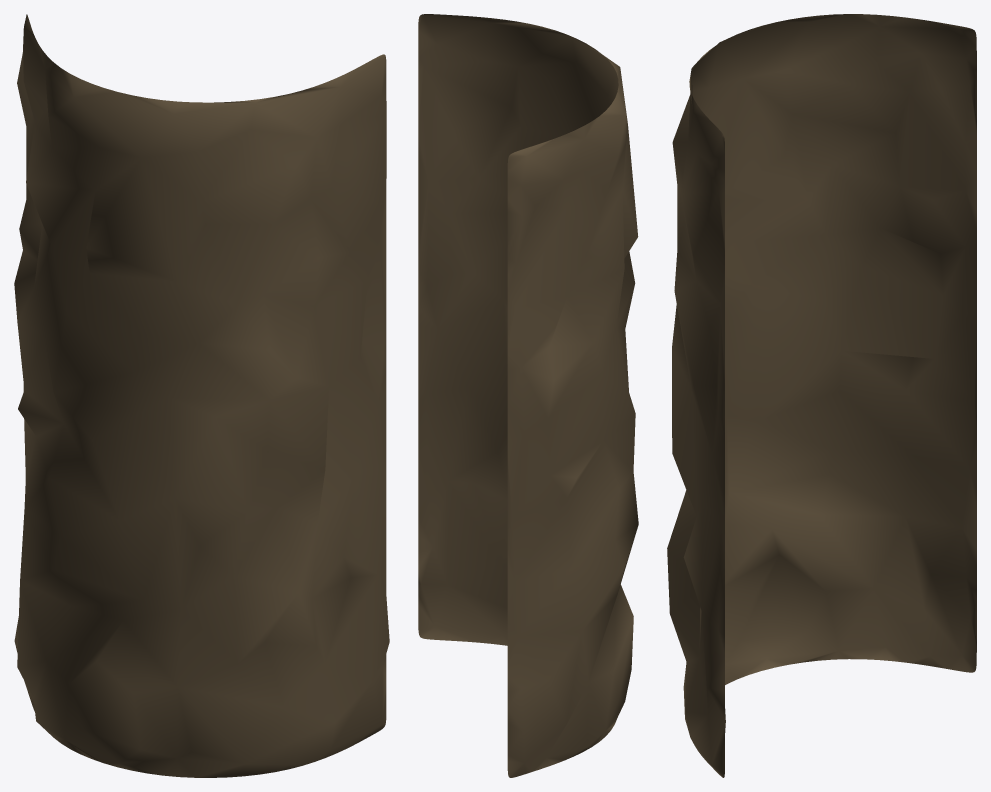
Rendered from BlocksRock_04.fbx.
The picture shows the model from 3 angles, left to right: view 1: azimuth 30°, elevation 25°; view 2: azimuth 150°, elevation 25°; view 3: azimuth 270°, elevation 25°; orthographic projection. The views are drawn at different scales.
Parts seen in each view (by area): view 1: BlockRock_04_Rise; view 2: BlockRock_04_Rise; view 3: BlockRock_04_Rise.
Part boxes in pixels (x1=…): BlockRock_04_Rise: x1=14, y1=14, x2=389, y2=777; BlockRock_04_Rise: x1=418, y1=14, x2=638, y2=777; BlockRock_04_Rise: x1=667, y1=14, x2=976, y2=777.
Size of the model in its own units: 869 by 2000 by 870.
